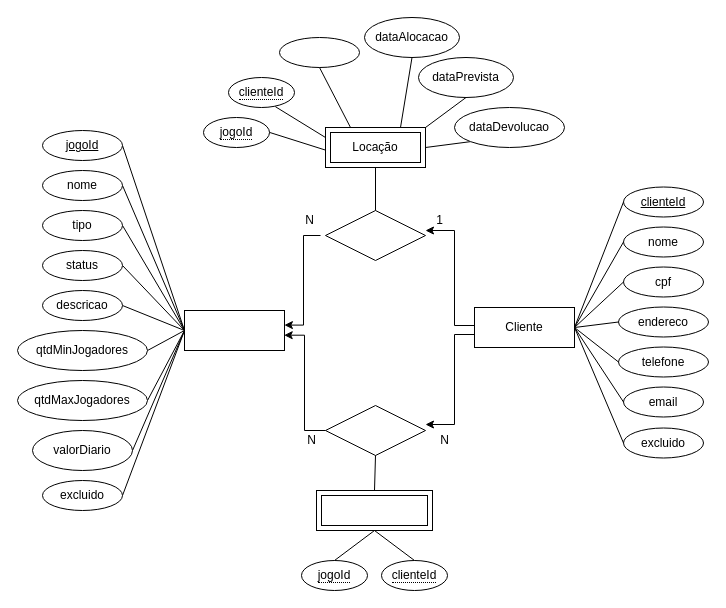
This 726x608 diagram has some shape labels left out. Each missing label, with the centre of its shape:
Aluga: (375,235)
Favorita: (375,430)
Jogo: (234,330)
JogosFavoritos: (374,510)
valorDiaria: (319,52)
